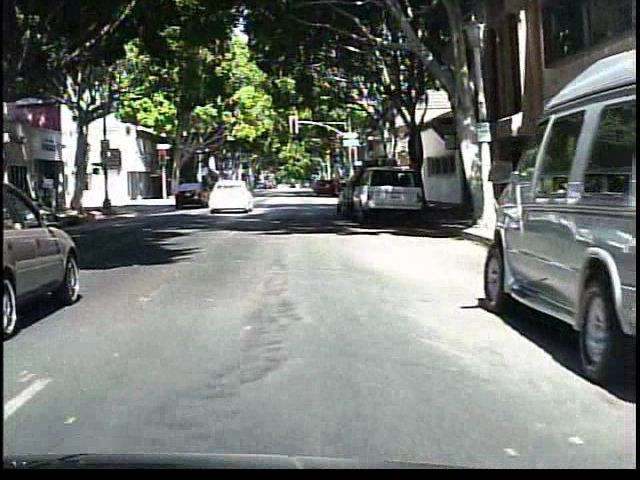person: (209, 170, 232, 210)
